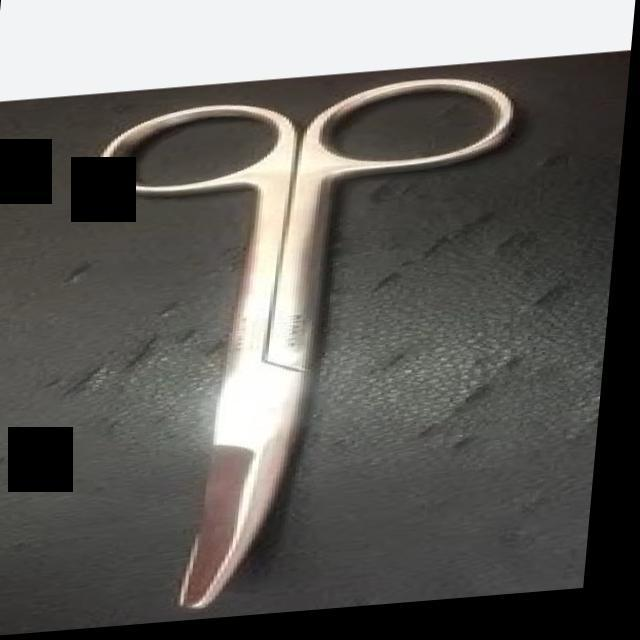Curved Mayo: (64, 82, 528, 624)
